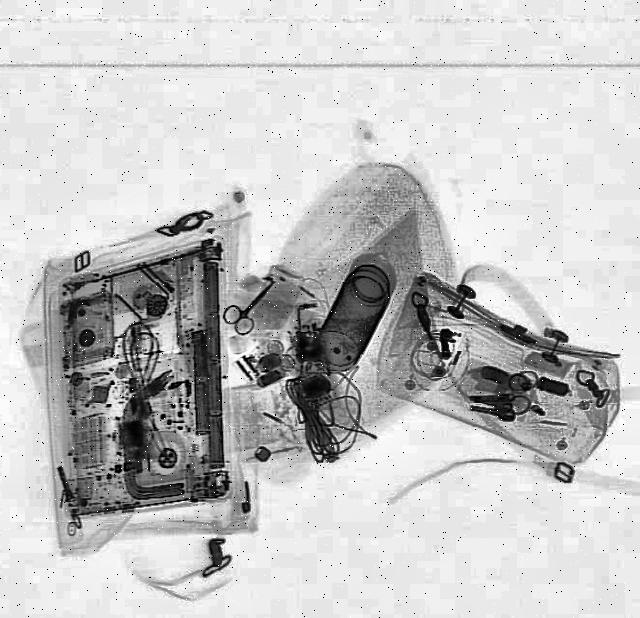Scissors: (217, 270, 291, 338)
